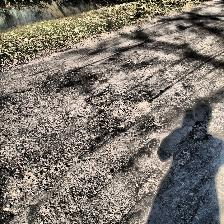pothole: (100, 98, 152, 132), (1, 171, 38, 209), (86, 84, 124, 104)
